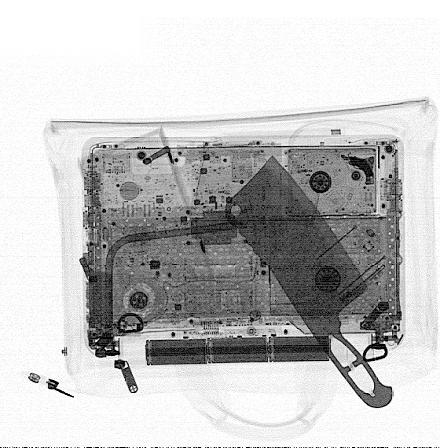Knife: (223, 152, 396, 410)
